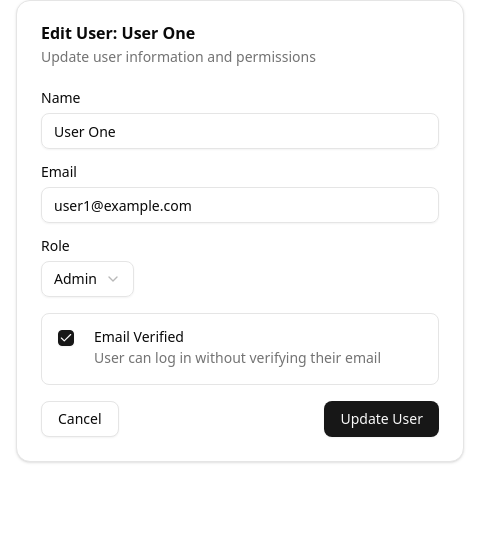
Test case: EditUser › shows error if API fails
Use getByRole for the submit button
Click the button "Update User" at (382, 419), box [324,401,439,437]
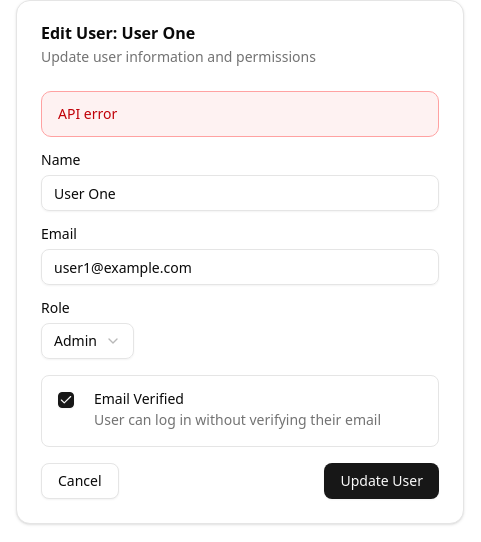
Result: the text "API error" is shown at [58,104,117,123]
